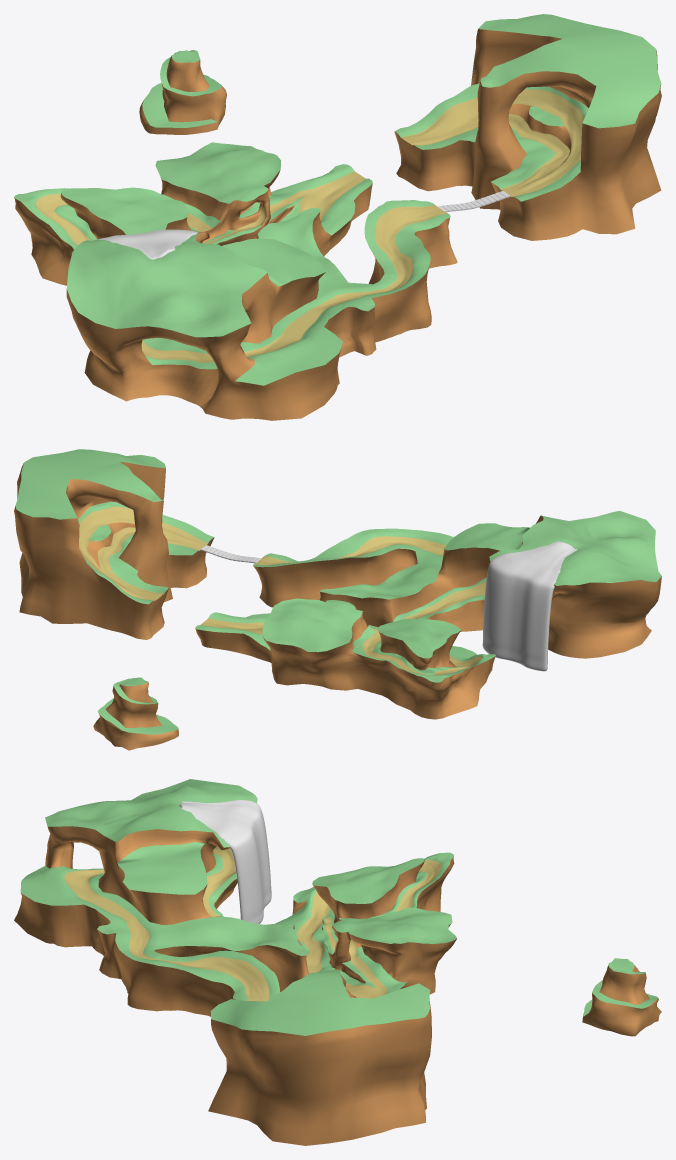
File: GreenHillZoneTerrain.fbx
The picture shows the model from 3 angles, top to bottom: view 1: azimuth 30°, elevation 25°; view 2: azimuth 150°, elevation 25°; view 3: azimuth 270°, elevation 25°; orthographic projection. The views are drawn at different scales.
Parts seen in each view (by area): view 1: MainIsland, UTurnIsland, SideIsland, SpiralIsland, Waterfall; view 2: MainIsland, UTurnIsland, SideIsland, Waterfall, SpiralIsland; view 3: MainIsland, UTurnIsland, SideIsland, Waterfall, SpiralIsland.
Part boxes in pixels (box(x1,y1,x2,y2)): MainIsland: box(66, 200, 457, 420); UTurnIsland: box(394, 14, 661, 240); SideIsland: box(14, 142, 372, 285); SpiralIsland: box(139, 50, 226, 134); Waterfall: box(97, 229, 198, 259); MainIsland: box(253, 511, 661, 658); UTurnIsland: box(14, 449, 214, 639); SideIsland: box(195, 598, 495, 719); Waterfall: box(482, 541, 577, 671); SpiralIsland: box(93, 677, 178, 750); MainIsland: box(14, 779, 308, 1016); UTurnIsland: box(208, 967, 431, 1145); SideIsland: box(275, 852, 456, 998); Waterfall: box(179, 800, 271, 923); SpiralIsland: box(582, 958, 661, 1036).
Size of what is drawn, in the model's own units: 346320 by 69697 by 329199.
